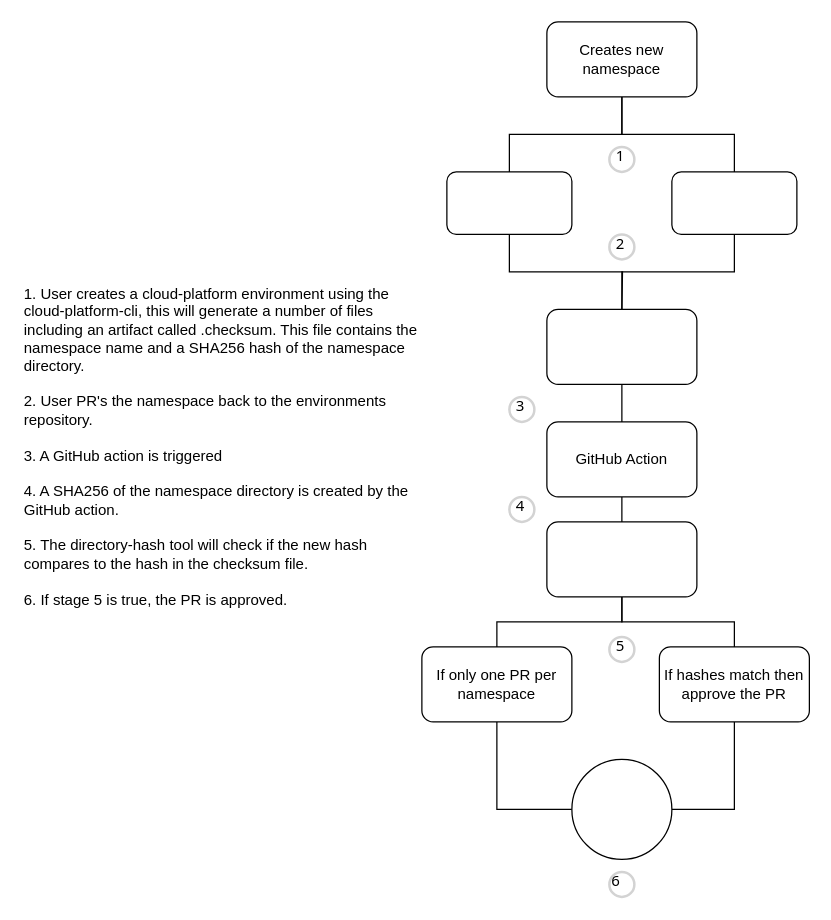
Image size: 831x920. Some labels were removed from this diagram. Here are the shapes that lost their labels. From the top down, the centre of each, then its label:
At (x=509, y=202): "SHA256 hash of new namespace".
At (x=734, y=202): "Namespace files".
At (x=621, y=346): "Cloud platform environment".
At (x=621, y=559): "SHA256 hash of namespace in PR".
At (x=621, y=808): "PR is approved".
